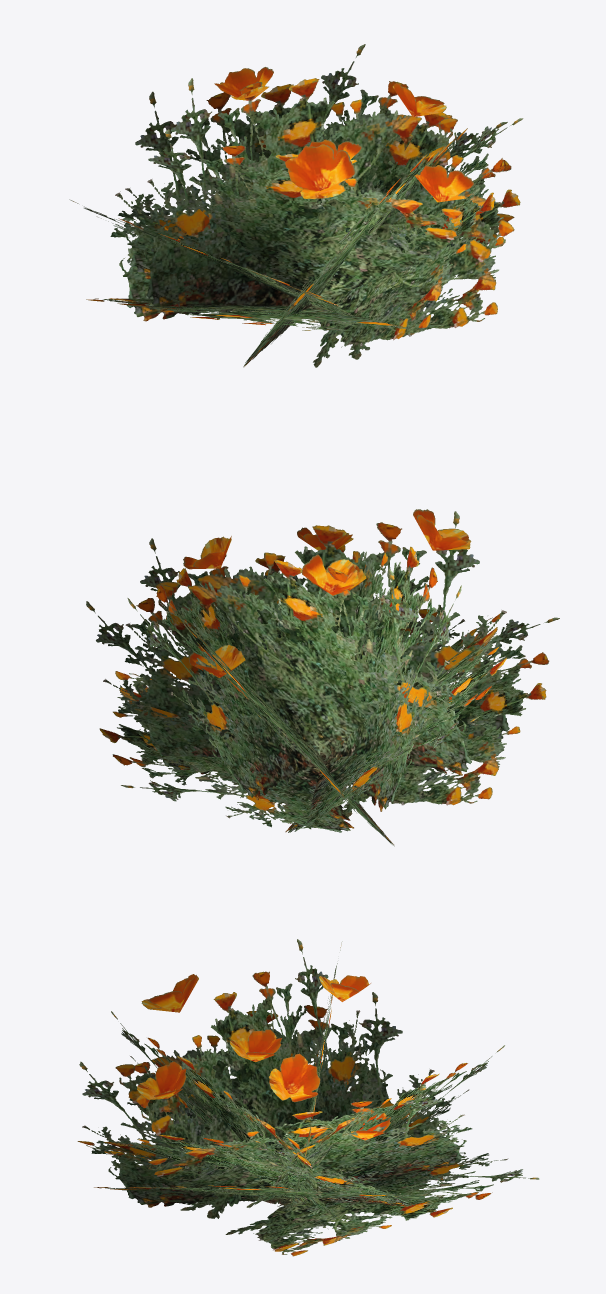
Rendered from flow_poppies_sm_l0.fbx.
3 views of the same model, one above another, from view 1: azimuth 30°, elevation 25°; view 2: azimuth 150°, elevation 25°; view 3: azimuth 270°, elevation 25° (orthographic). The views are drawn at different scales.
Parts seen in each view (by area): view 1: mesh_node; view 2: mesh_node; view 3: mesh_node.
Boxes of the visible parts, x1,y1,x2,y2 form: mesh_node: (69,44,523,367); mesh_node: (86,509,559,846); mesh_node: (77,939,539,1256).
Bounding box in the file's own units: 1.61 × 0.814 × 1.58.
